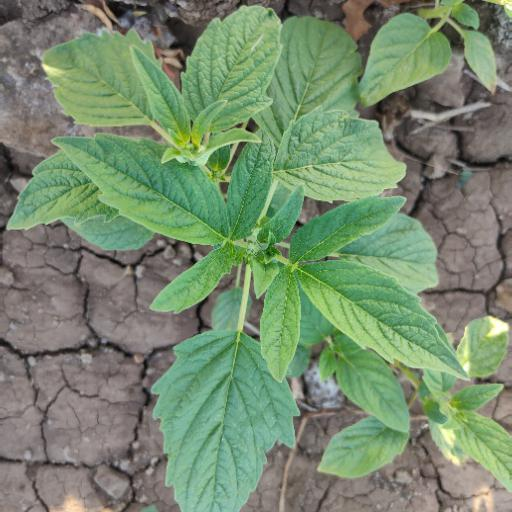crop: (33, 25, 467, 479)
